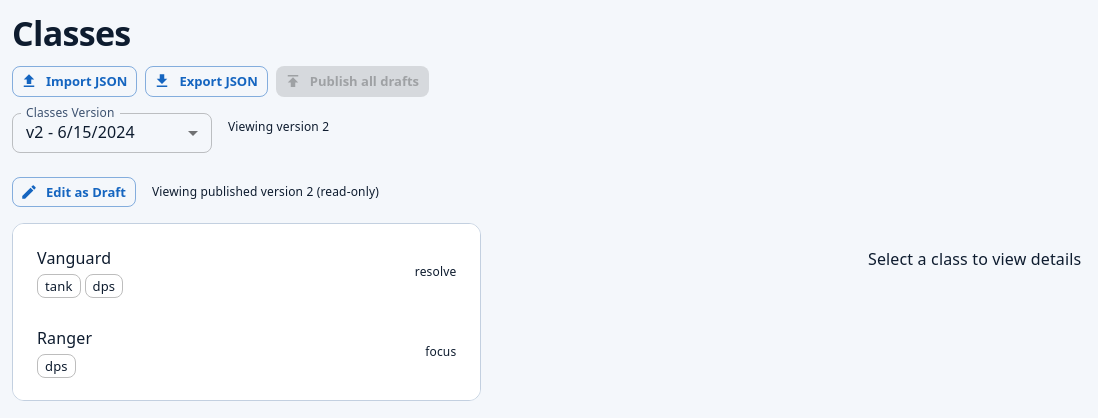
CatalogPage › loads class list after selecting an older version
Click the dropdown. click: (80, 132)
box: [26, 121, 135, 143]
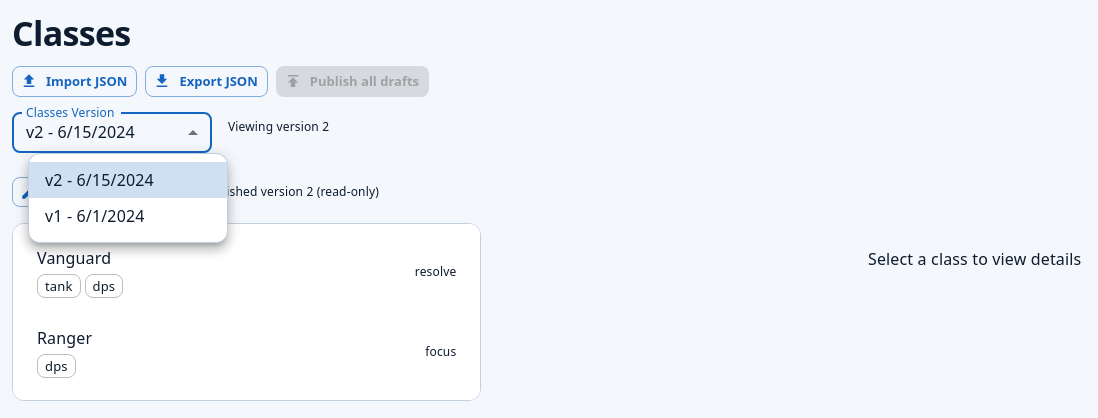
Click the option "v1 - 6/1/2024". click: (95, 216)
box: [45, 205, 145, 227]
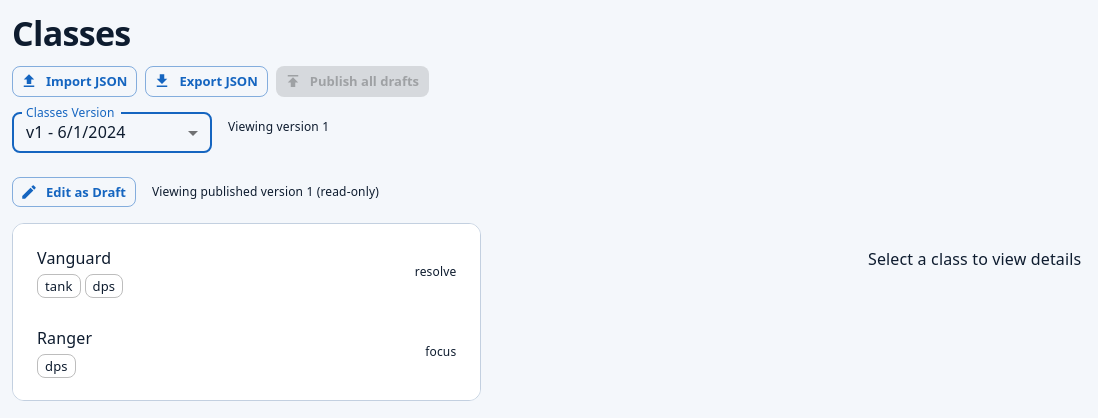
Expected: the text "Vanguard" is shown, [37, 247, 111, 269]
Result: the text "Viewing version 1" is shown at [228, 118, 329, 135]
